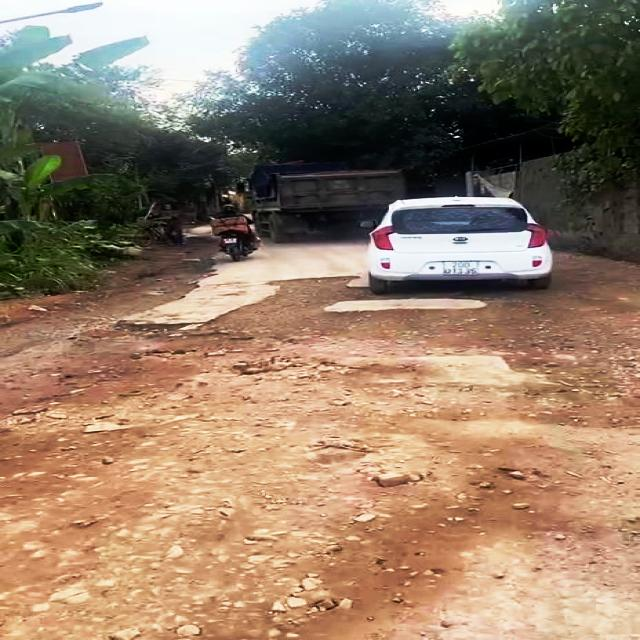pothole: (323, 288, 640, 429), (0, 322, 319, 461), (207, 272, 439, 367)
